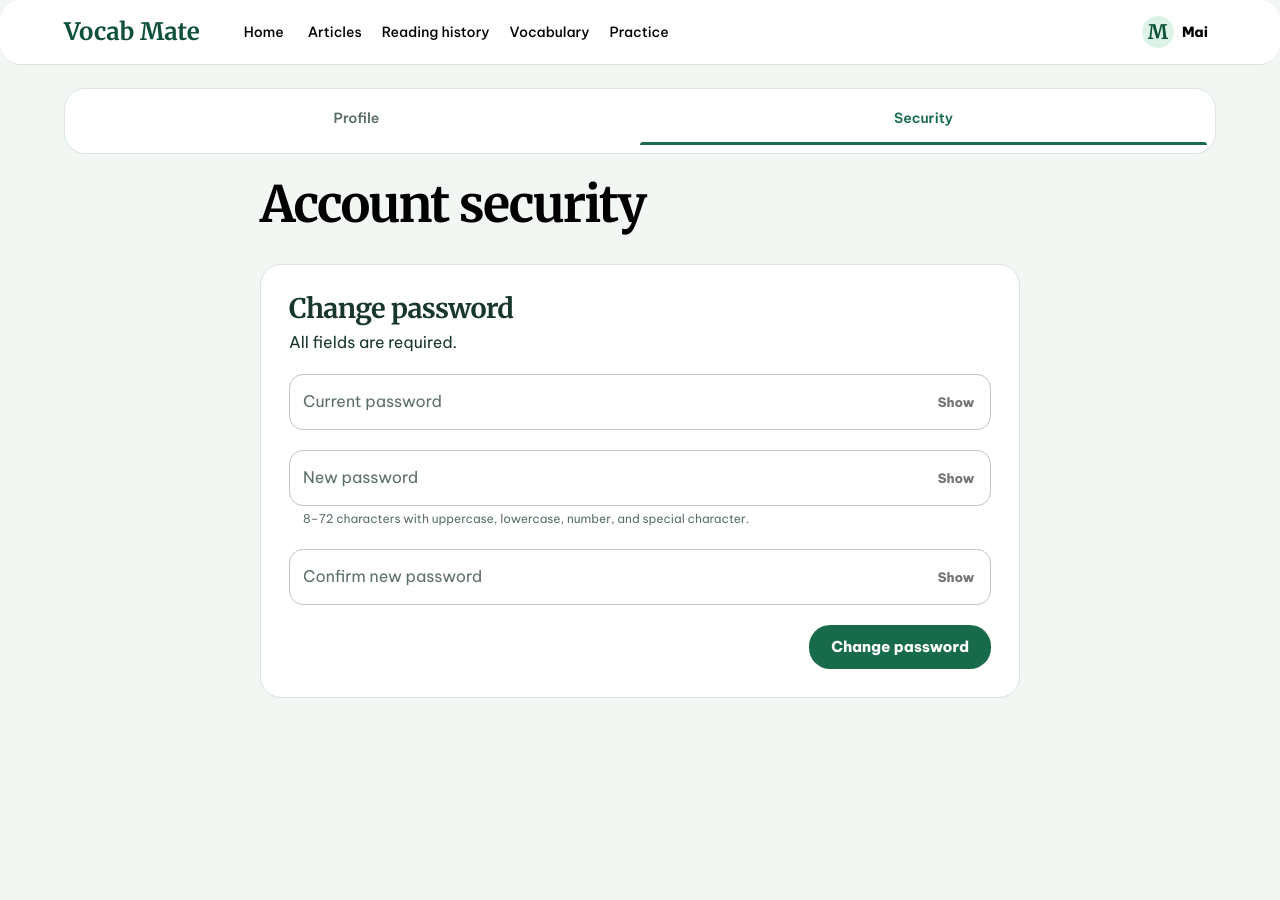
Test: Security settings UI › places incorrect-current-password feedback beside that field
Type "OldPass@123" into the password field labelled "Current password" at (605, 402), box [289,374,921,430]
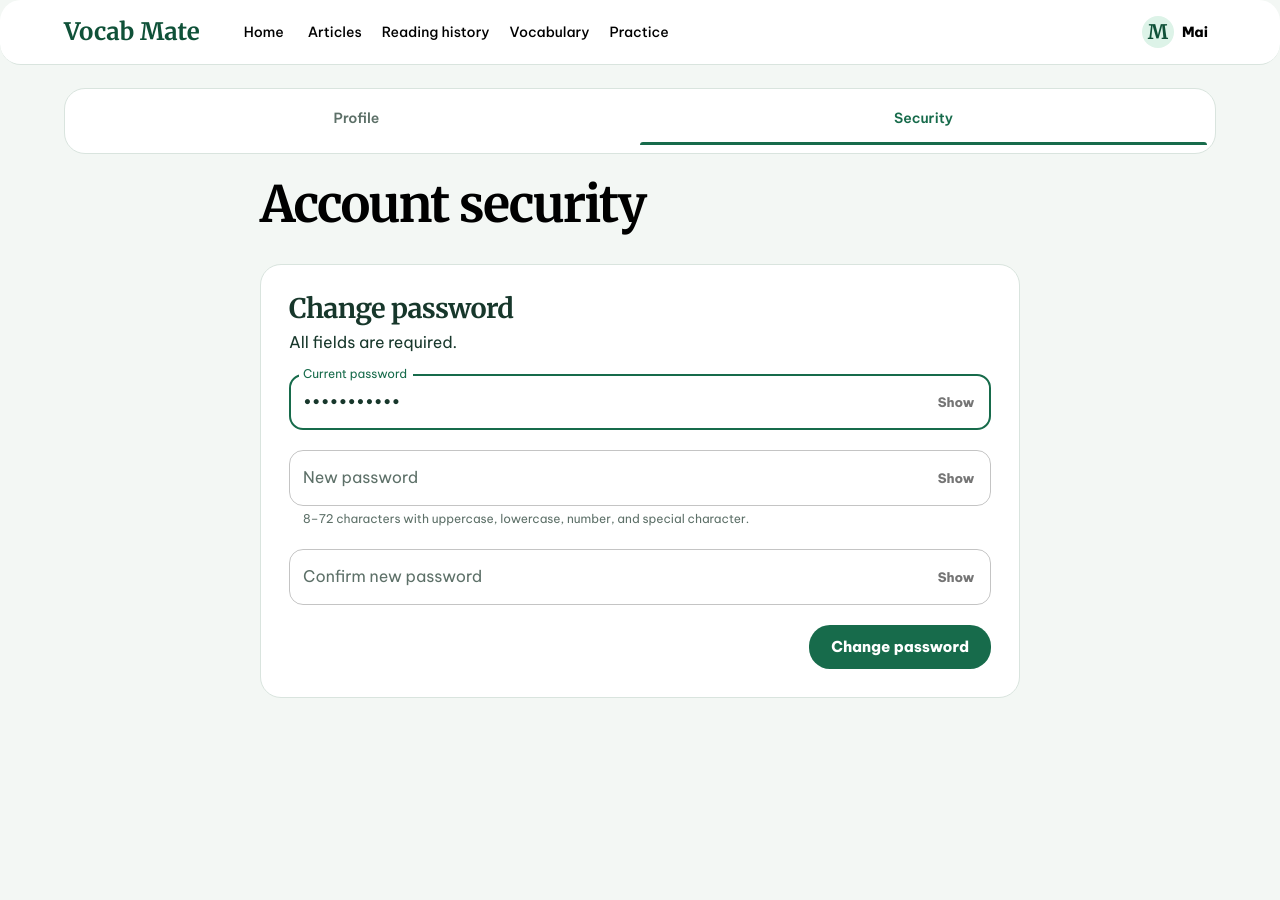
Type "NewPass@456" into the password field labelled "New password" at (605, 478), box [289,450,921,506]
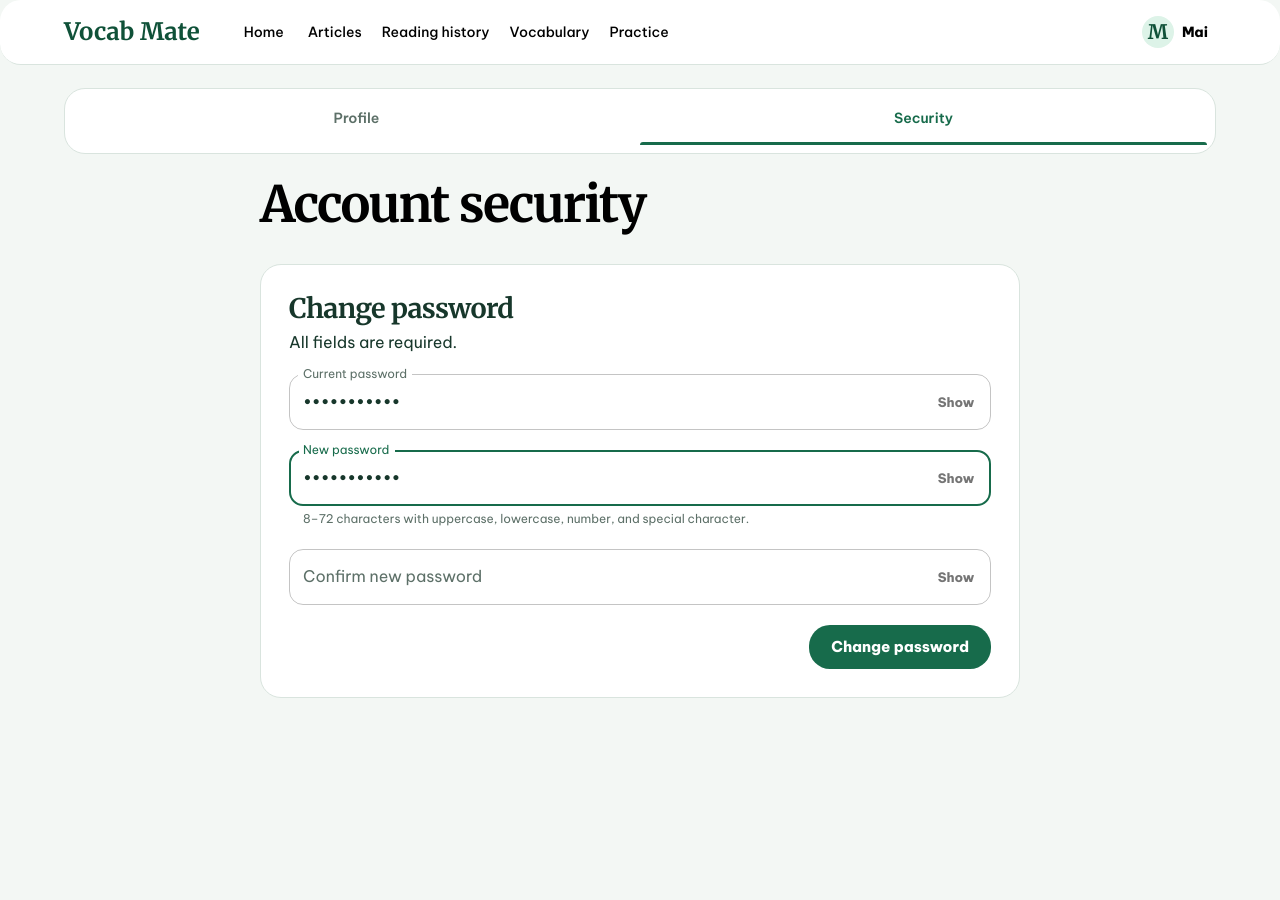
Type "NewPass@456" into the password field labelled "Confirm new password" at (605, 577), box [289,549,921,605]
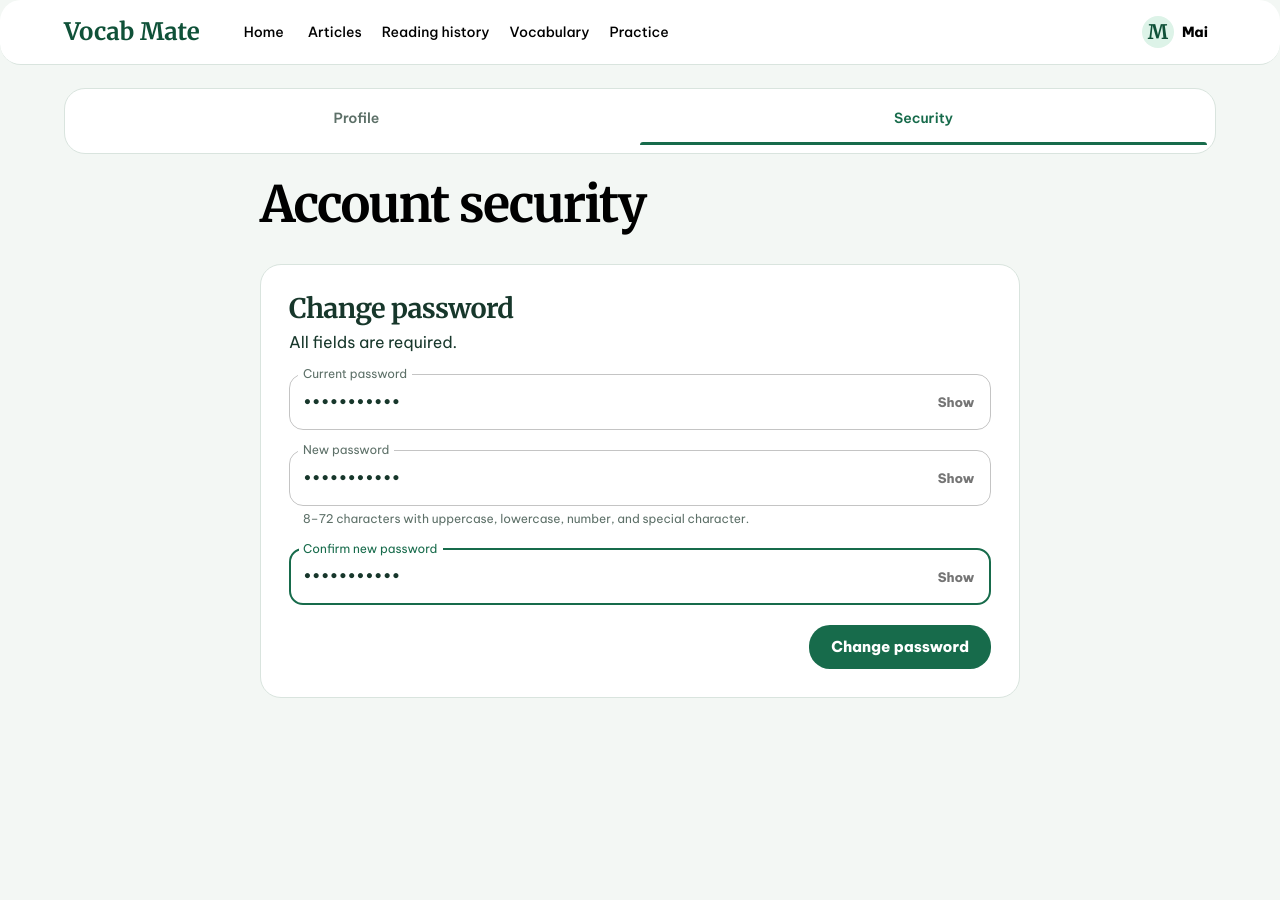
Click the button "Change password" at (900, 647), box [809,625,991,669]
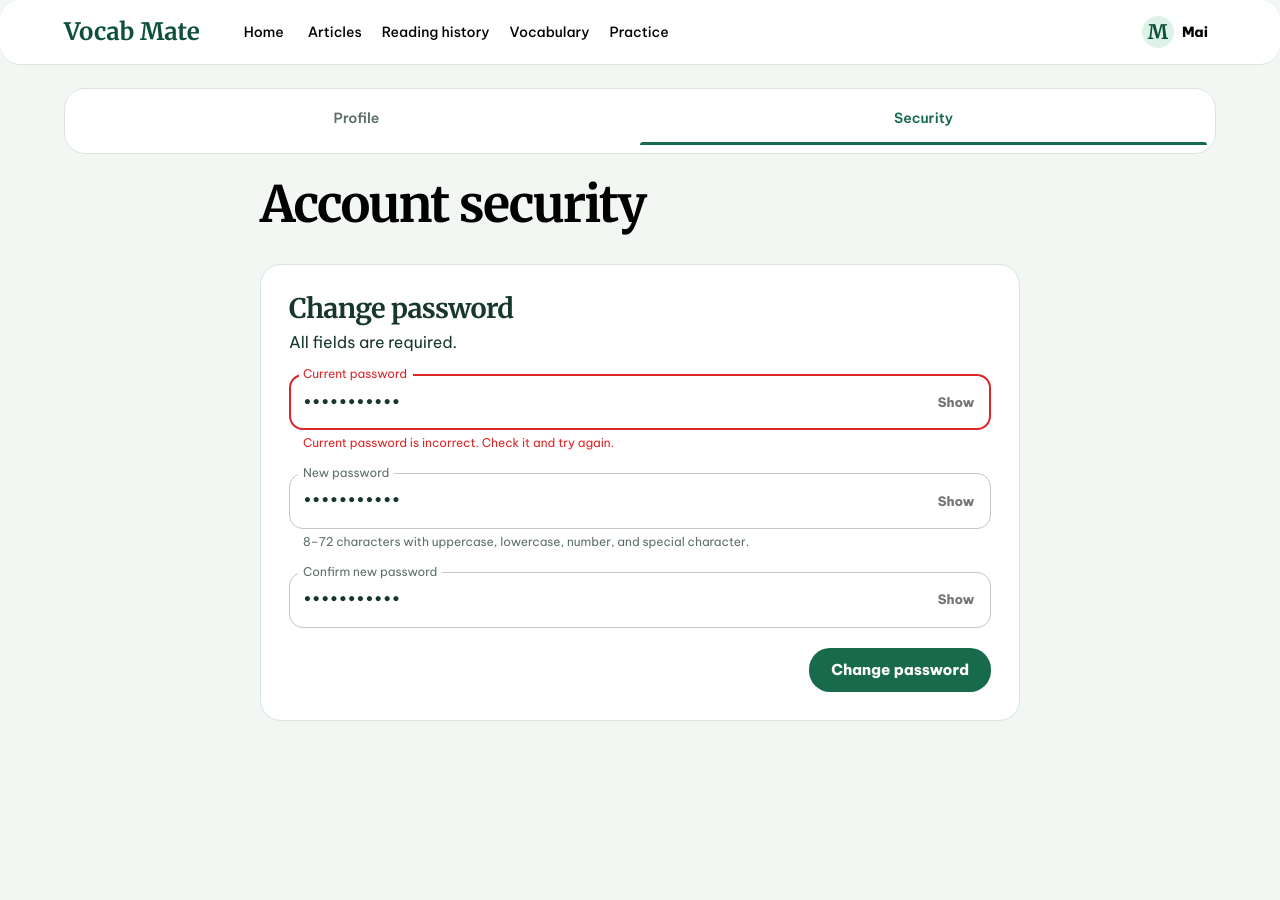
Result: the text "Current password is incorrect. Check it and try again." is shown at [303,435,614,450]
